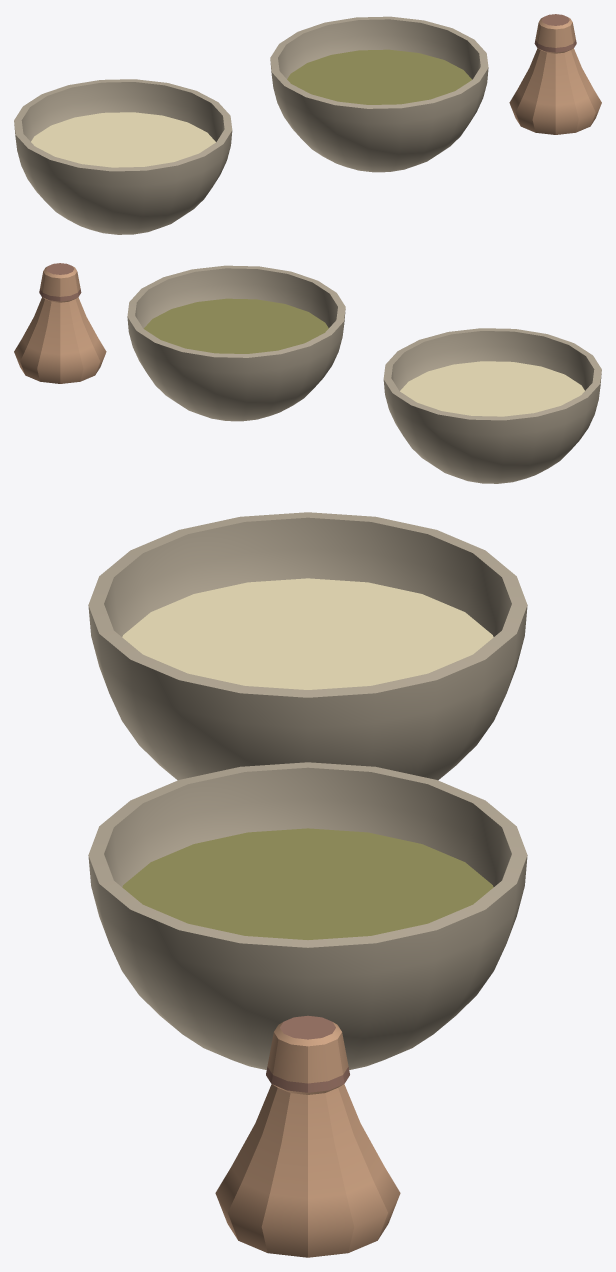
File: choco_4.fbx
3 renders of one model, top to bottom at view 1: azimuth 30°, elevation 25°; view 2: azimuth 150°, elevation 25°; view 3: azimuth 270°, elevation 25°, orthographic. The views are drawn at different scales.
Parts seen in each view (by area): view 1: pSphere10, pSphere12, pSphere11, pSphere13, pCylinder142; view 2: pSphere10, pSphere12, pSphere11, pSphere13, pCylinder142; view 3: pSphere12, pSphere10, pSphere11, pSphere13, pCylinder142.
Boxes of the visible parts, x1,y1,x2,y2 form: pSphere10: [14, 79, 232, 234]; pSphere12: [270, 16, 488, 172]; pSphere11: [31, 112, 215, 167]; pSphere13: [287, 49, 472, 104]; pCylinder142: [509, 14, 601, 134]; pSphere10: [383, 328, 601, 483]; pSphere12: [127, 265, 345, 421]; pSphere11: [400, 361, 584, 416]; pSphere13: [143, 298, 328, 353]; pCylinder142: [14, 263, 106, 383]; pSphere12: [88, 762, 527, 1069]; pSphere10: [88, 512, 527, 780]; pSphere11: [122, 578, 493, 689]; pSphere13: [122, 828, 493, 939]; pCylinder142: [215, 1015, 400, 1257].
Bounding box in the file's own units: 0.5329 × 0.0897 × 0.1785.
